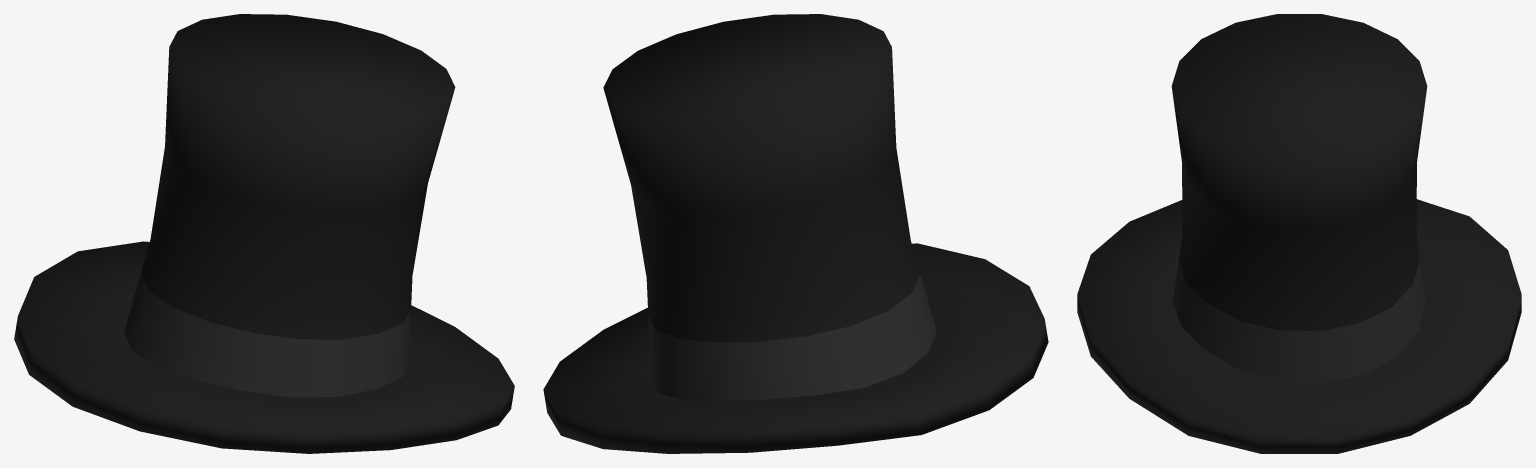
Rendered from Top Hat.FBX.
3 views of the same model, side by side, from view 1: azimuth 30°, elevation 25°; view 2: azimuth 150°, elevation 25°; view 3: azimuth 270°, elevation 25° (orthographic). The views are drawn at different scales.
Visible parts, largest first — view 1: Cylinder.001; view 2: Cylinder.001; view 3: Cylinder.001.
Part boxes in pixels (x1,y1,x2,y2): Cylinder.001: (14,14,514,453); Cylinder.001: (543,14,1048,453); Cylinder.001: (1077,14,1521,453).
Size of the model in its own units: 104 by 83.79 by 106.
